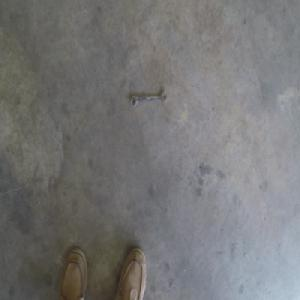Wrench: (129, 90, 167, 106)
